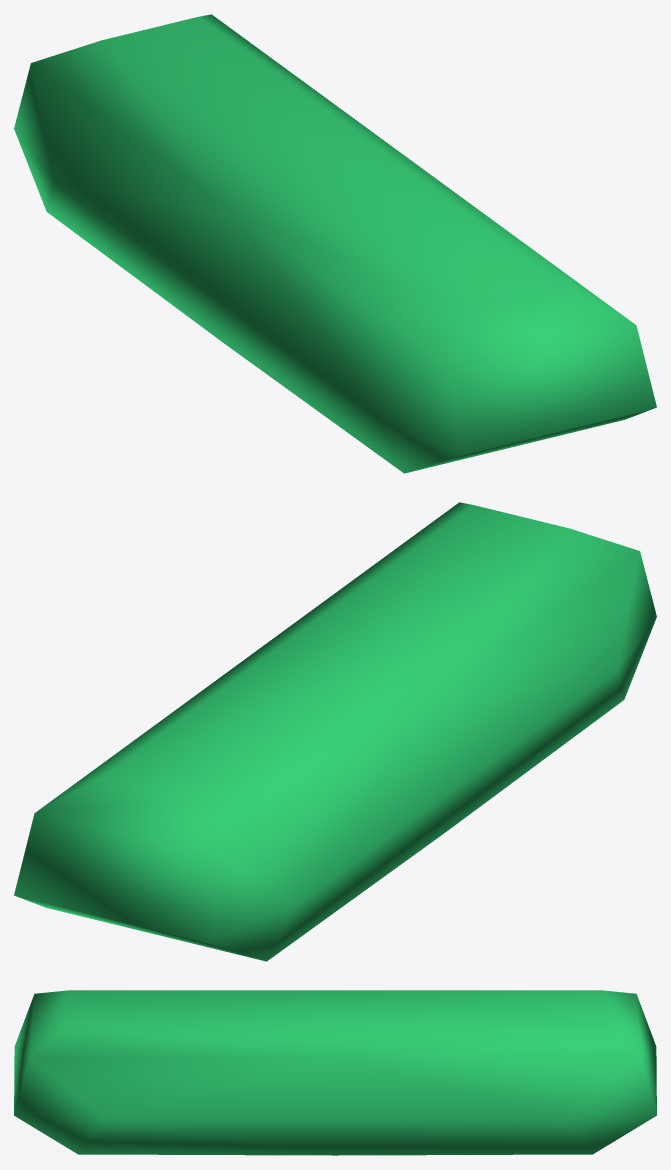
Rendered from bannerGreen.obj.
The picture shows the model from 3 angles, top to bottom: view 1: azimuth 30°, elevation 25°; view 2: azimuth 150°, elevation 25°; view 3: azimuth 270°, elevation 25°; orthographic projection. The views are drawn at different scales.
Parts seen in each view (by area): view 1: Cube; view 2: Cube; view 3: Cube.
Part boxes in pixels (x1,y1,x2,y2): Cube: (14, 14, 656, 473); Cube: (14, 502, 656, 961); Cube: (14, 990, 656, 1155).
Size of the model in its own units: 0.0941 by 0.0586 by 0.3128.
